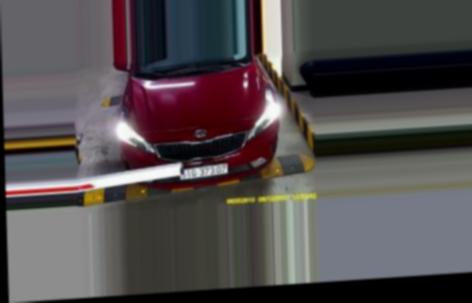License_Plate: (179, 162, 230, 180)
